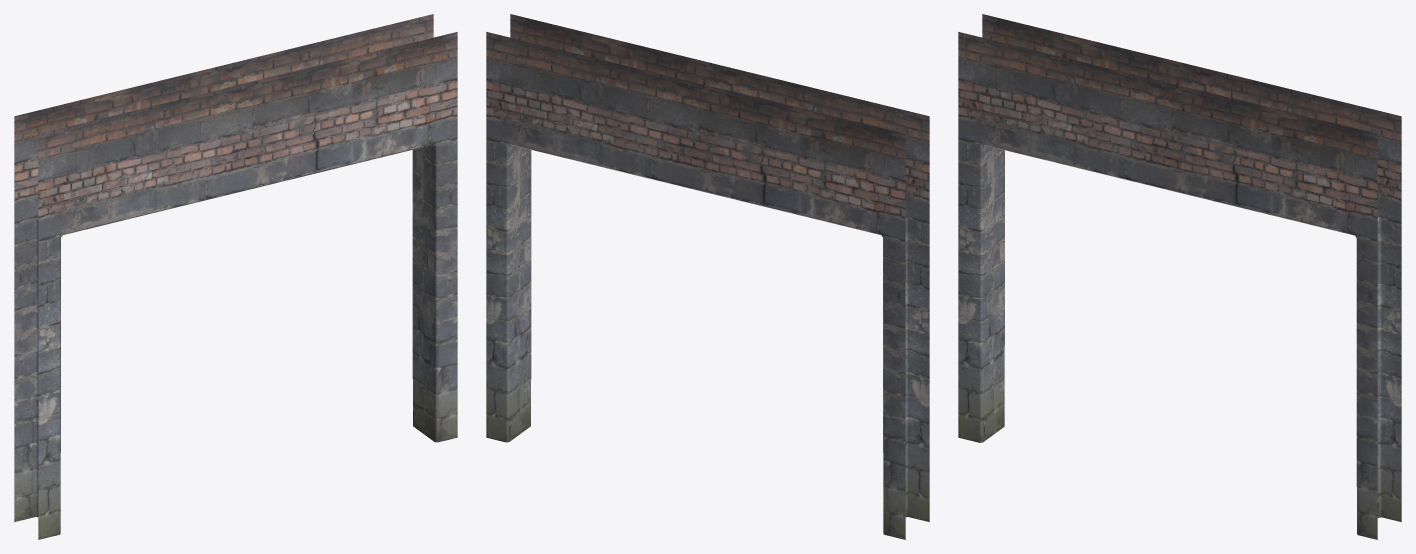
The model's file is sm_Wall_06_27.fbx.
The picture shows the model from 3 angles, left to right: view 1: azimuth 30°, elevation 25°; view 2: azimuth 150°, elevation 25°; view 3: azimuth 330°, elevation 25°; orthographic projection.
Parts seen in each view (by area): view 1: sm_Wall_06_27_LOD0; view 2: sm_Wall_06_27_LOD0; view 3: sm_Wall_06_27_LOD0.
Boxes of the visible parts, x1,y1,x2,y2 form: sm_Wall_06_27_LOD0: [14, 14, 457, 539]; sm_Wall_06_27_LOD0: [486, 14, 929, 539]; sm_Wall_06_27_LOD0: [958, 14, 1401, 539].
Bounding box in the file's own units: 40.31 × 400 × 370.
